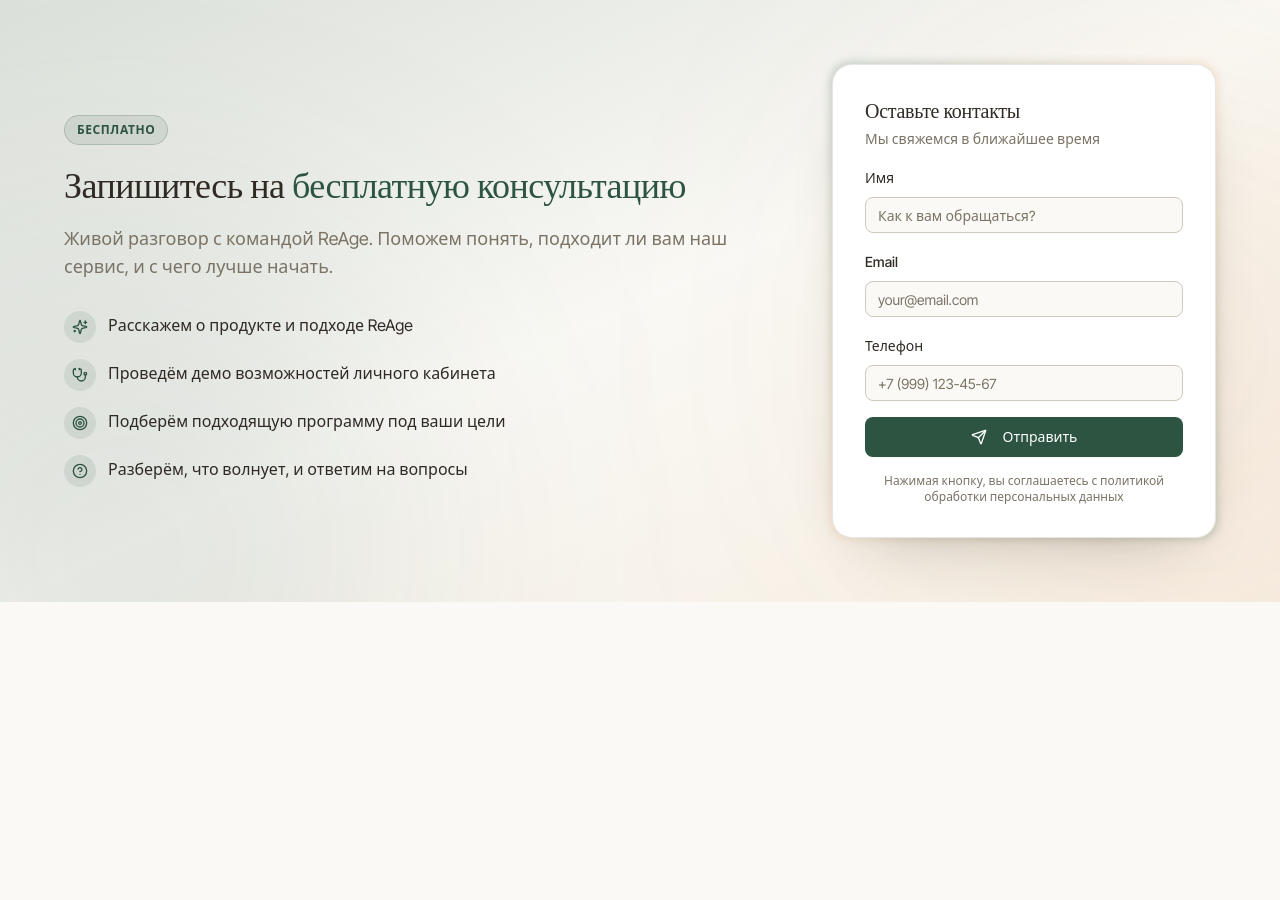
ConsultationCtaBlock › shows validation errors when name and email are empty
This screenshot has width=1280, height=900.
Click the button "Отправить" at coordinates (1024, 437), box left=865, top=417, right=1183, bottom=457
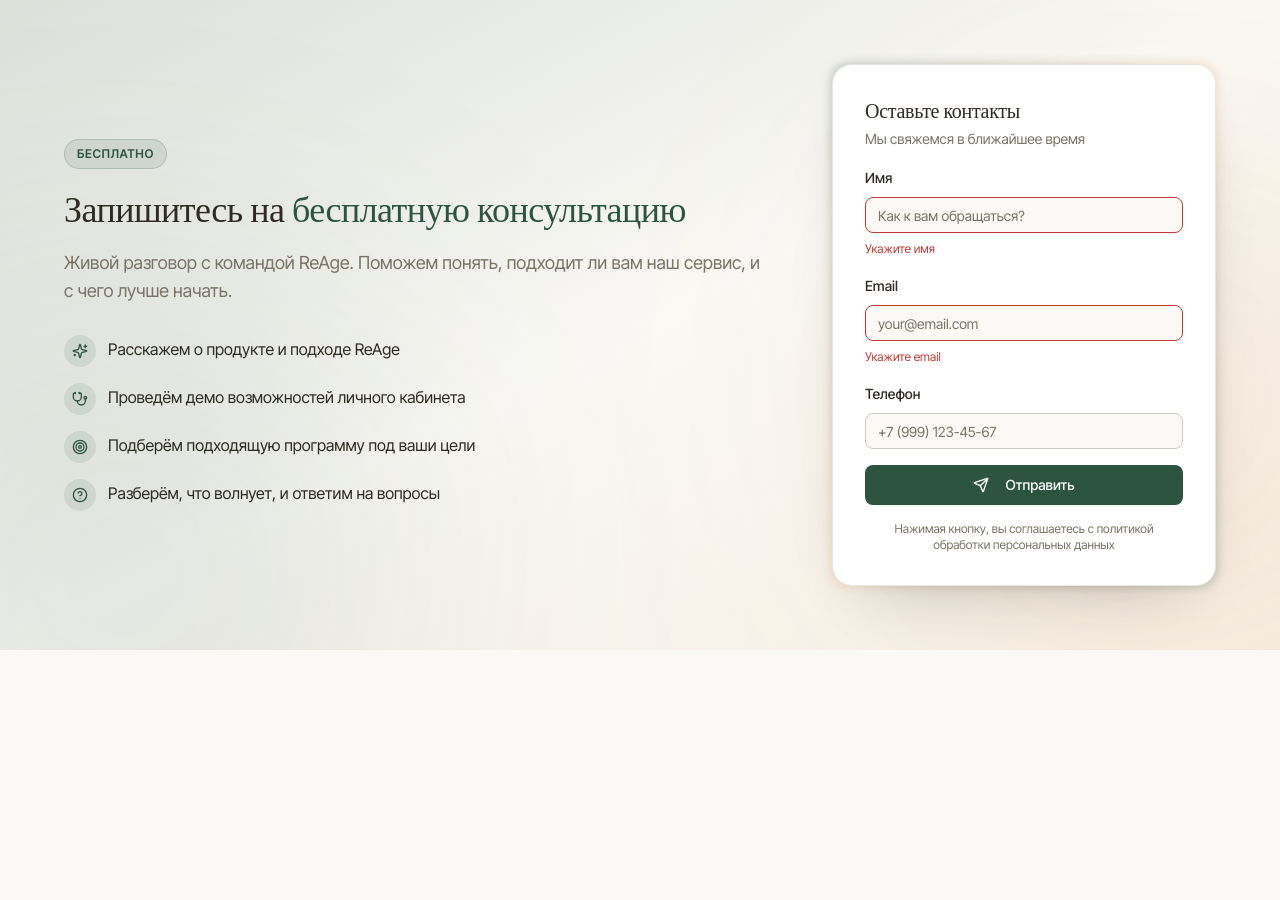
Now the text "Укажите имя" is shown, box left=865, top=241, right=935, bottom=256
Now the text "Укажите email" is shown, box left=865, top=349, right=941, bottom=364
